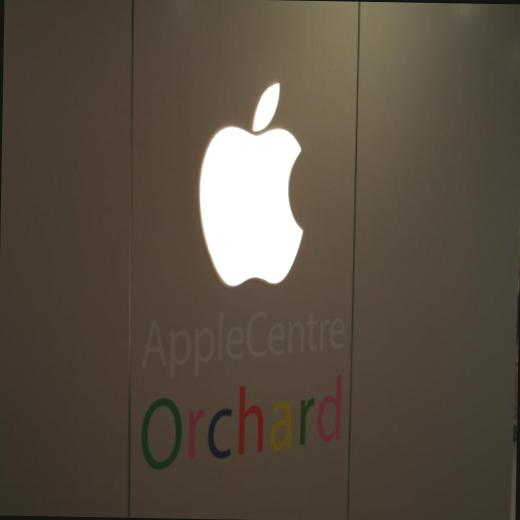Apple: (196, 79, 310, 288)
